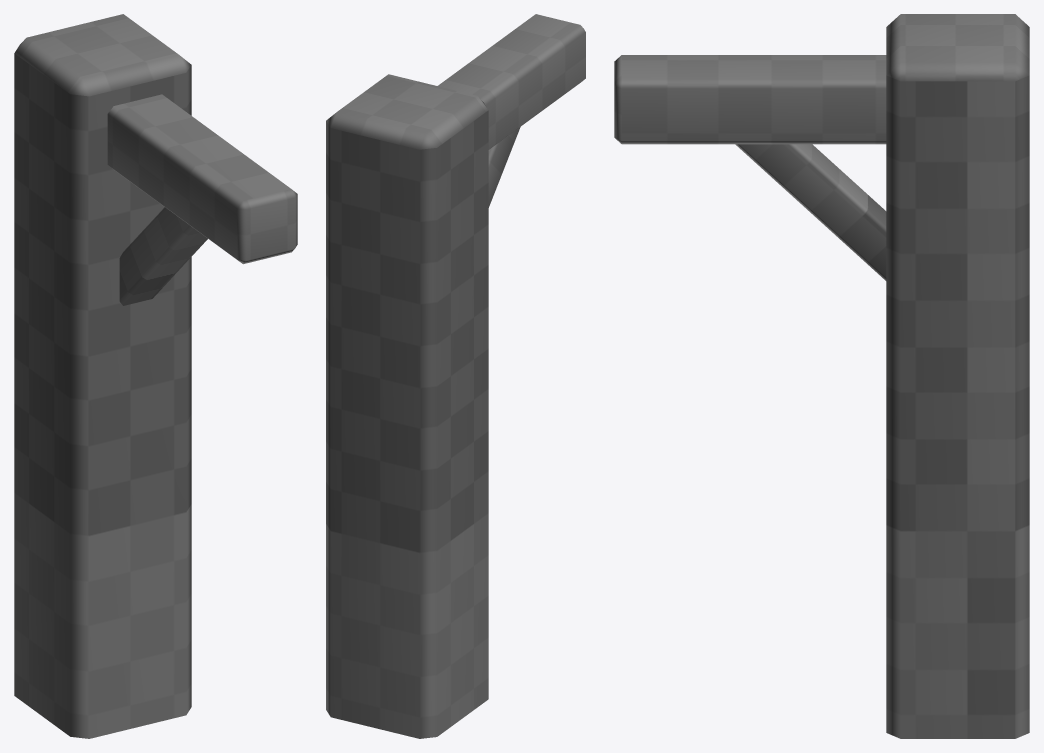
Rendered from WallPillar_X2_Y4_Z2.fbx.
3 renders of one model, left to right at view 1: azimuth 30°, elevation 25°; view 2: azimuth 150°, elevation 25°; view 3: azimuth 270°, elevation 25°, orthographic. The views are drawn at different scales.
Visible parts, largest first — view 1: WallPillar_X2_Y4_Z2_LOD_1; view 2: WallPillar_X2_Y4_Z2_LOD_1; view 3: WallPillar_X2_Y4_Z2_LOD_1.
Part boxes in pixels (box(x1,y1,x2,y2)): WallPillar_X2_Y4_Z2_LOD_1: box(14, 14, 297, 738); WallPillar_X2_Y4_Z2_LOD_1: box(326, 14, 585, 738); WallPillar_X2_Y4_Z2_LOD_1: box(614, 14, 1029, 738).
Size of the model in its own units: 60 by 310 by 174.
